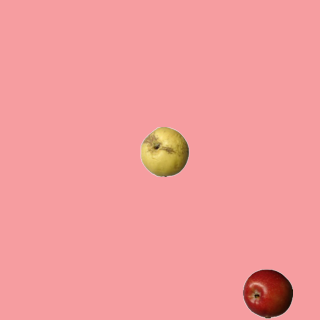Apple Braeburn: (242, 268, 292, 318)
Apple Golden 1: (139, 126, 189, 176)
